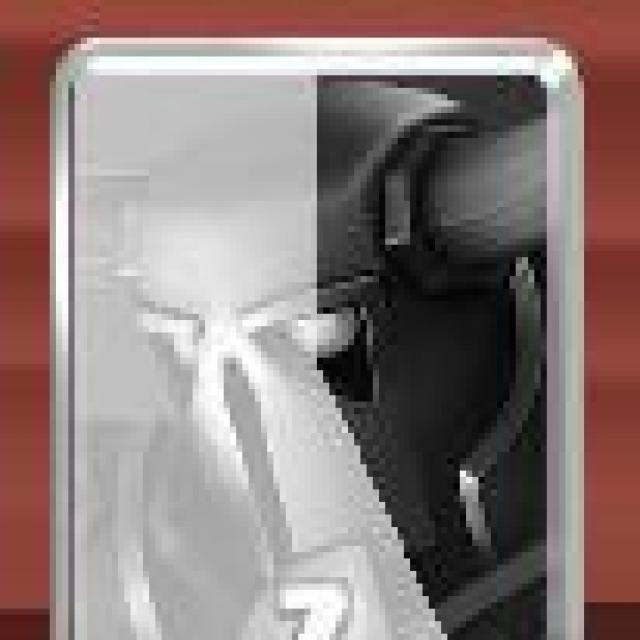Pekka: (50, 36, 583, 640)
